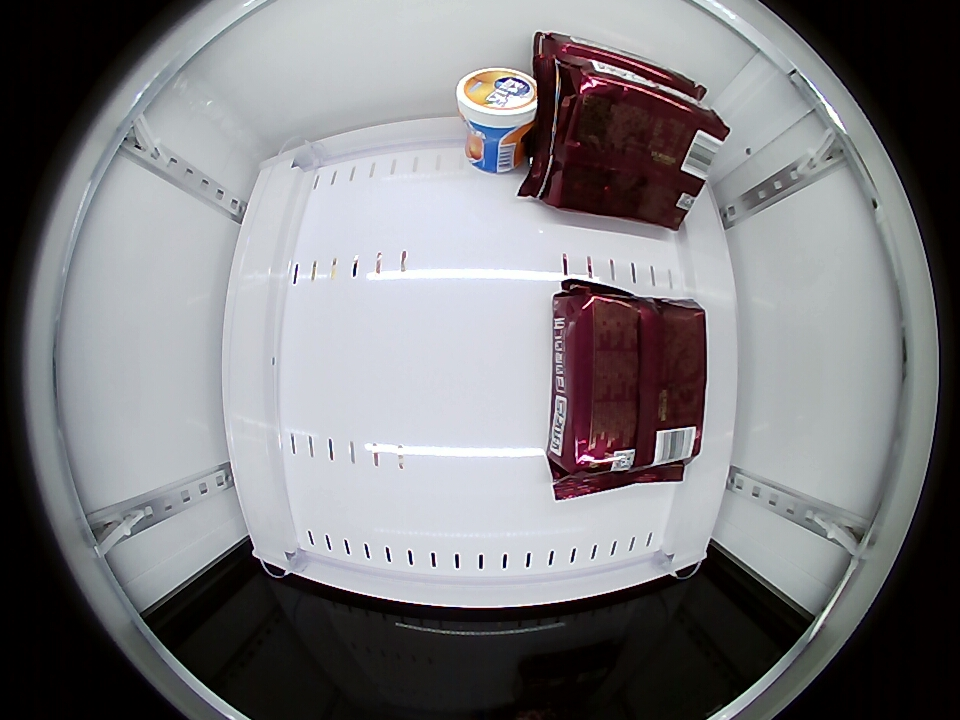haochidian: (544, 54, 727, 137), (552, 287, 704, 365), (534, 32, 706, 93)
yida: (456, 67, 539, 133)
